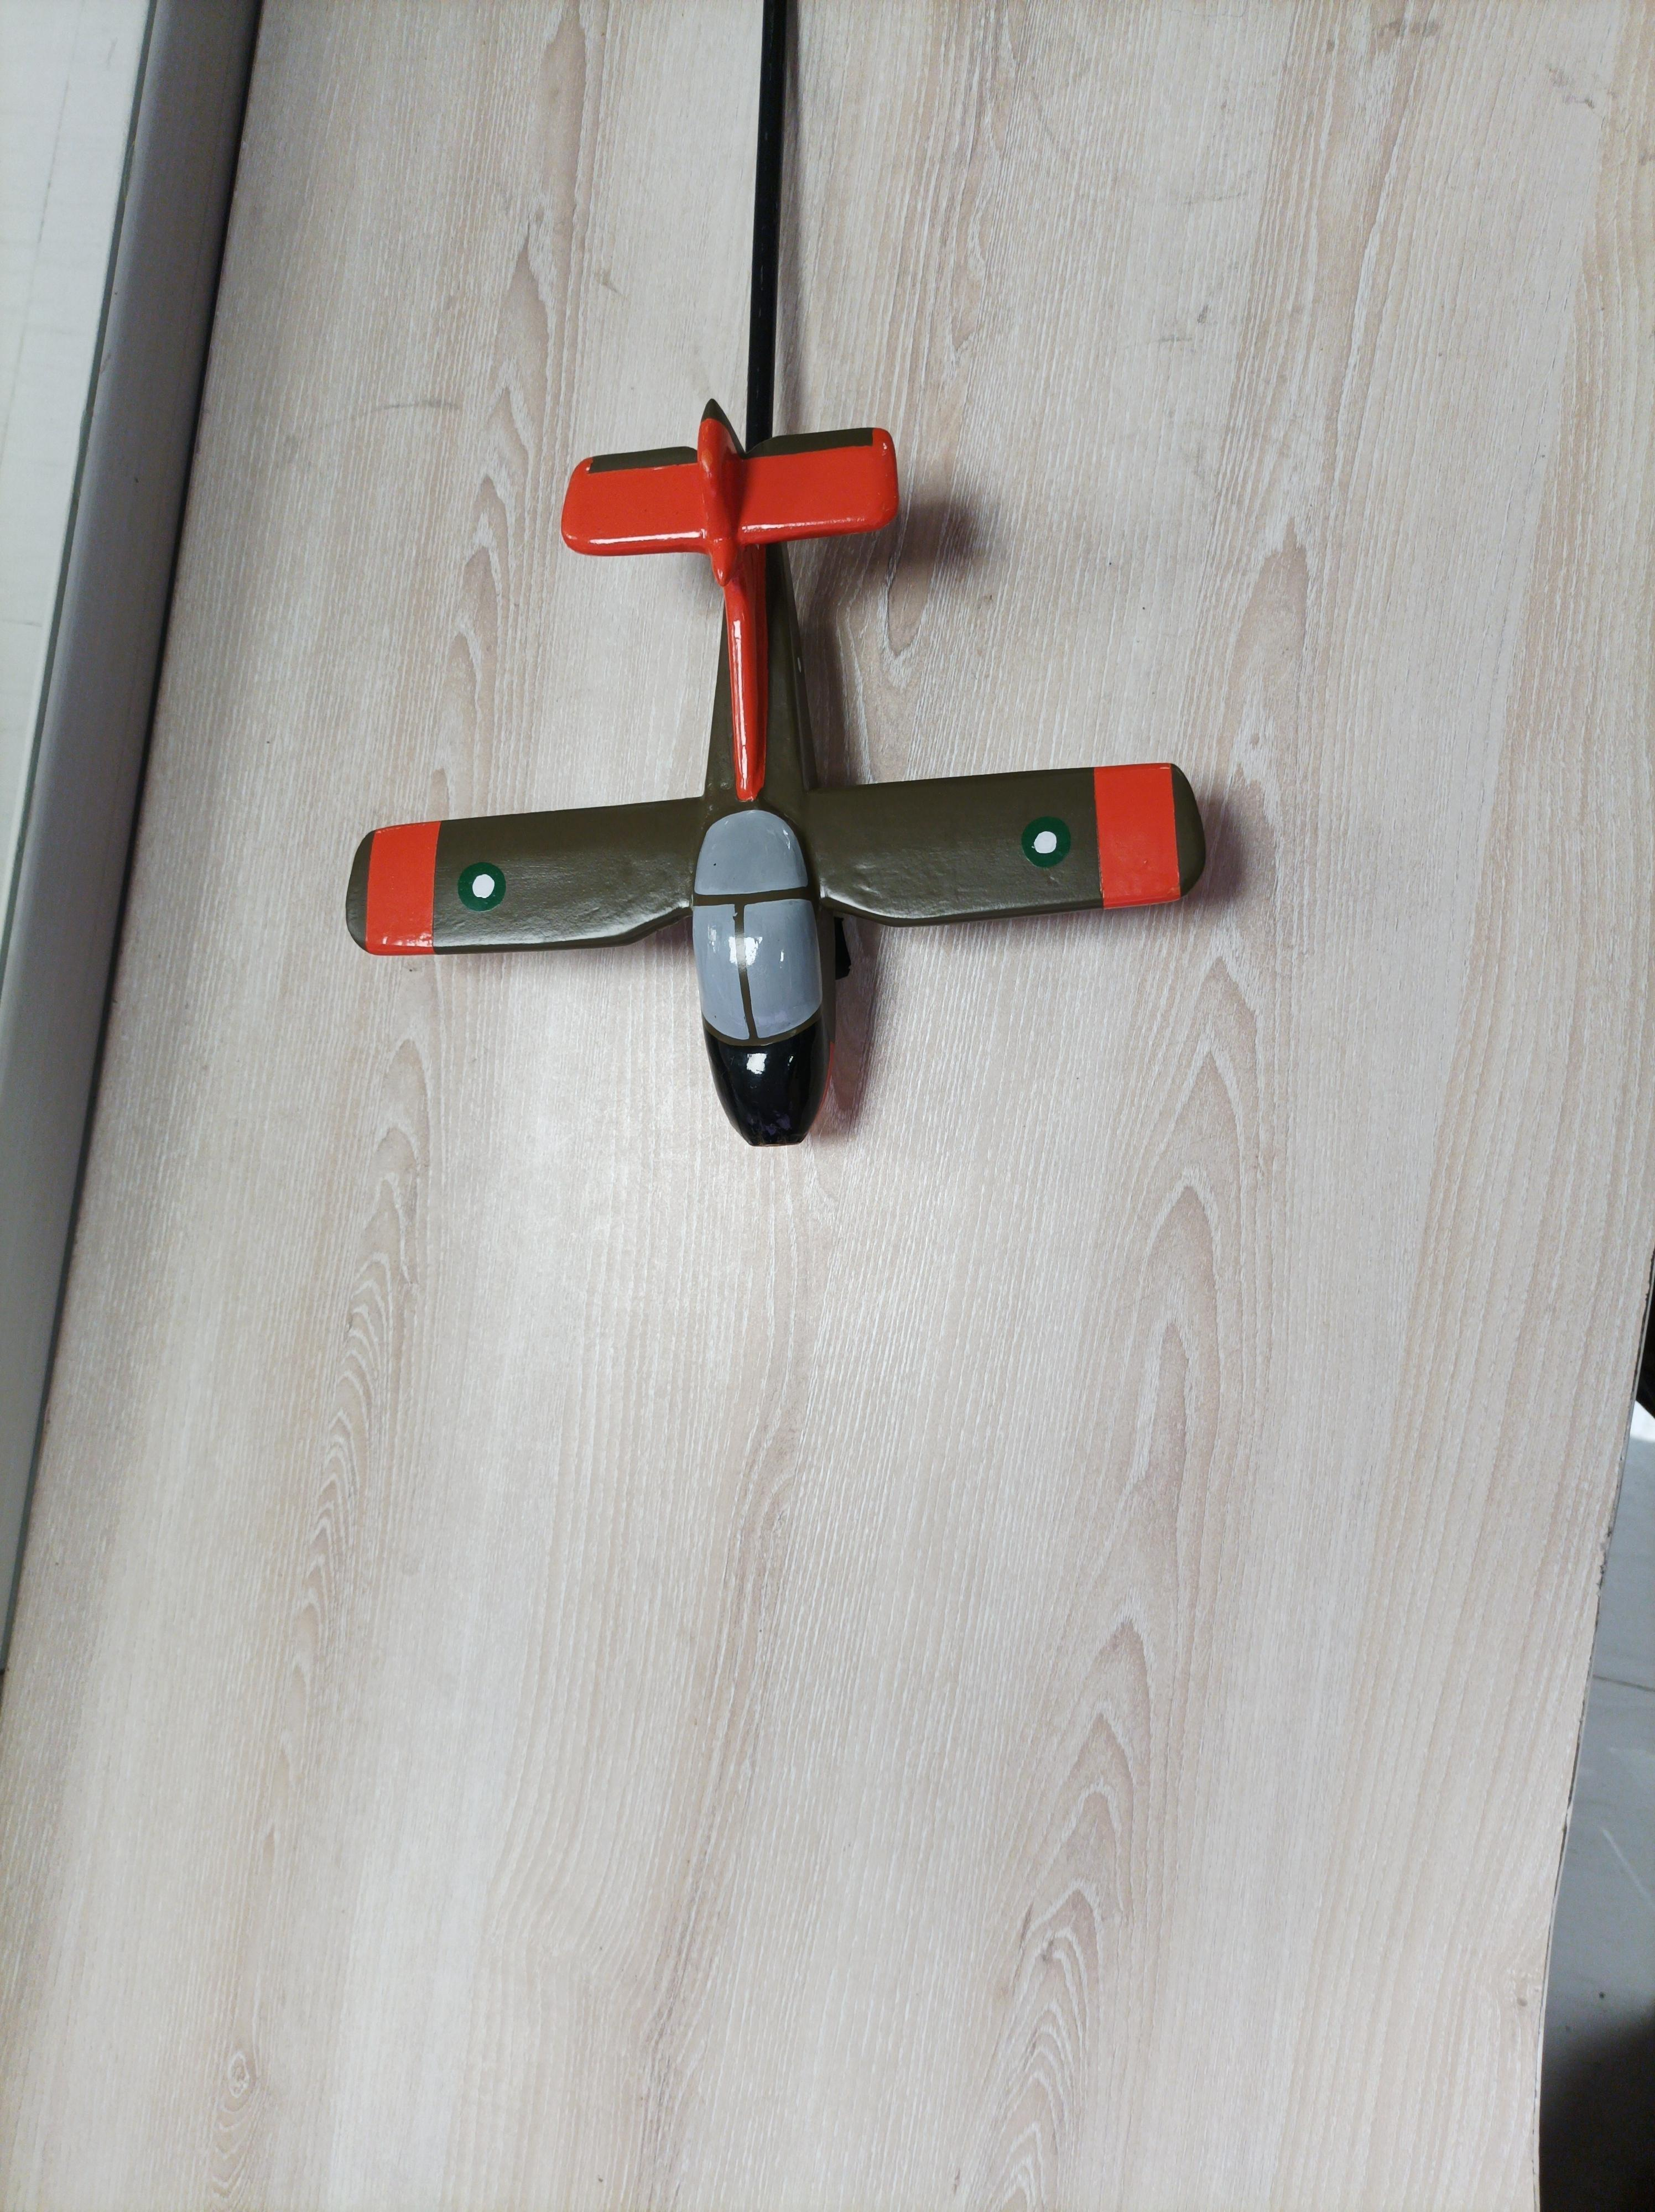Airplane: (327, 375, 1234, 1156)
